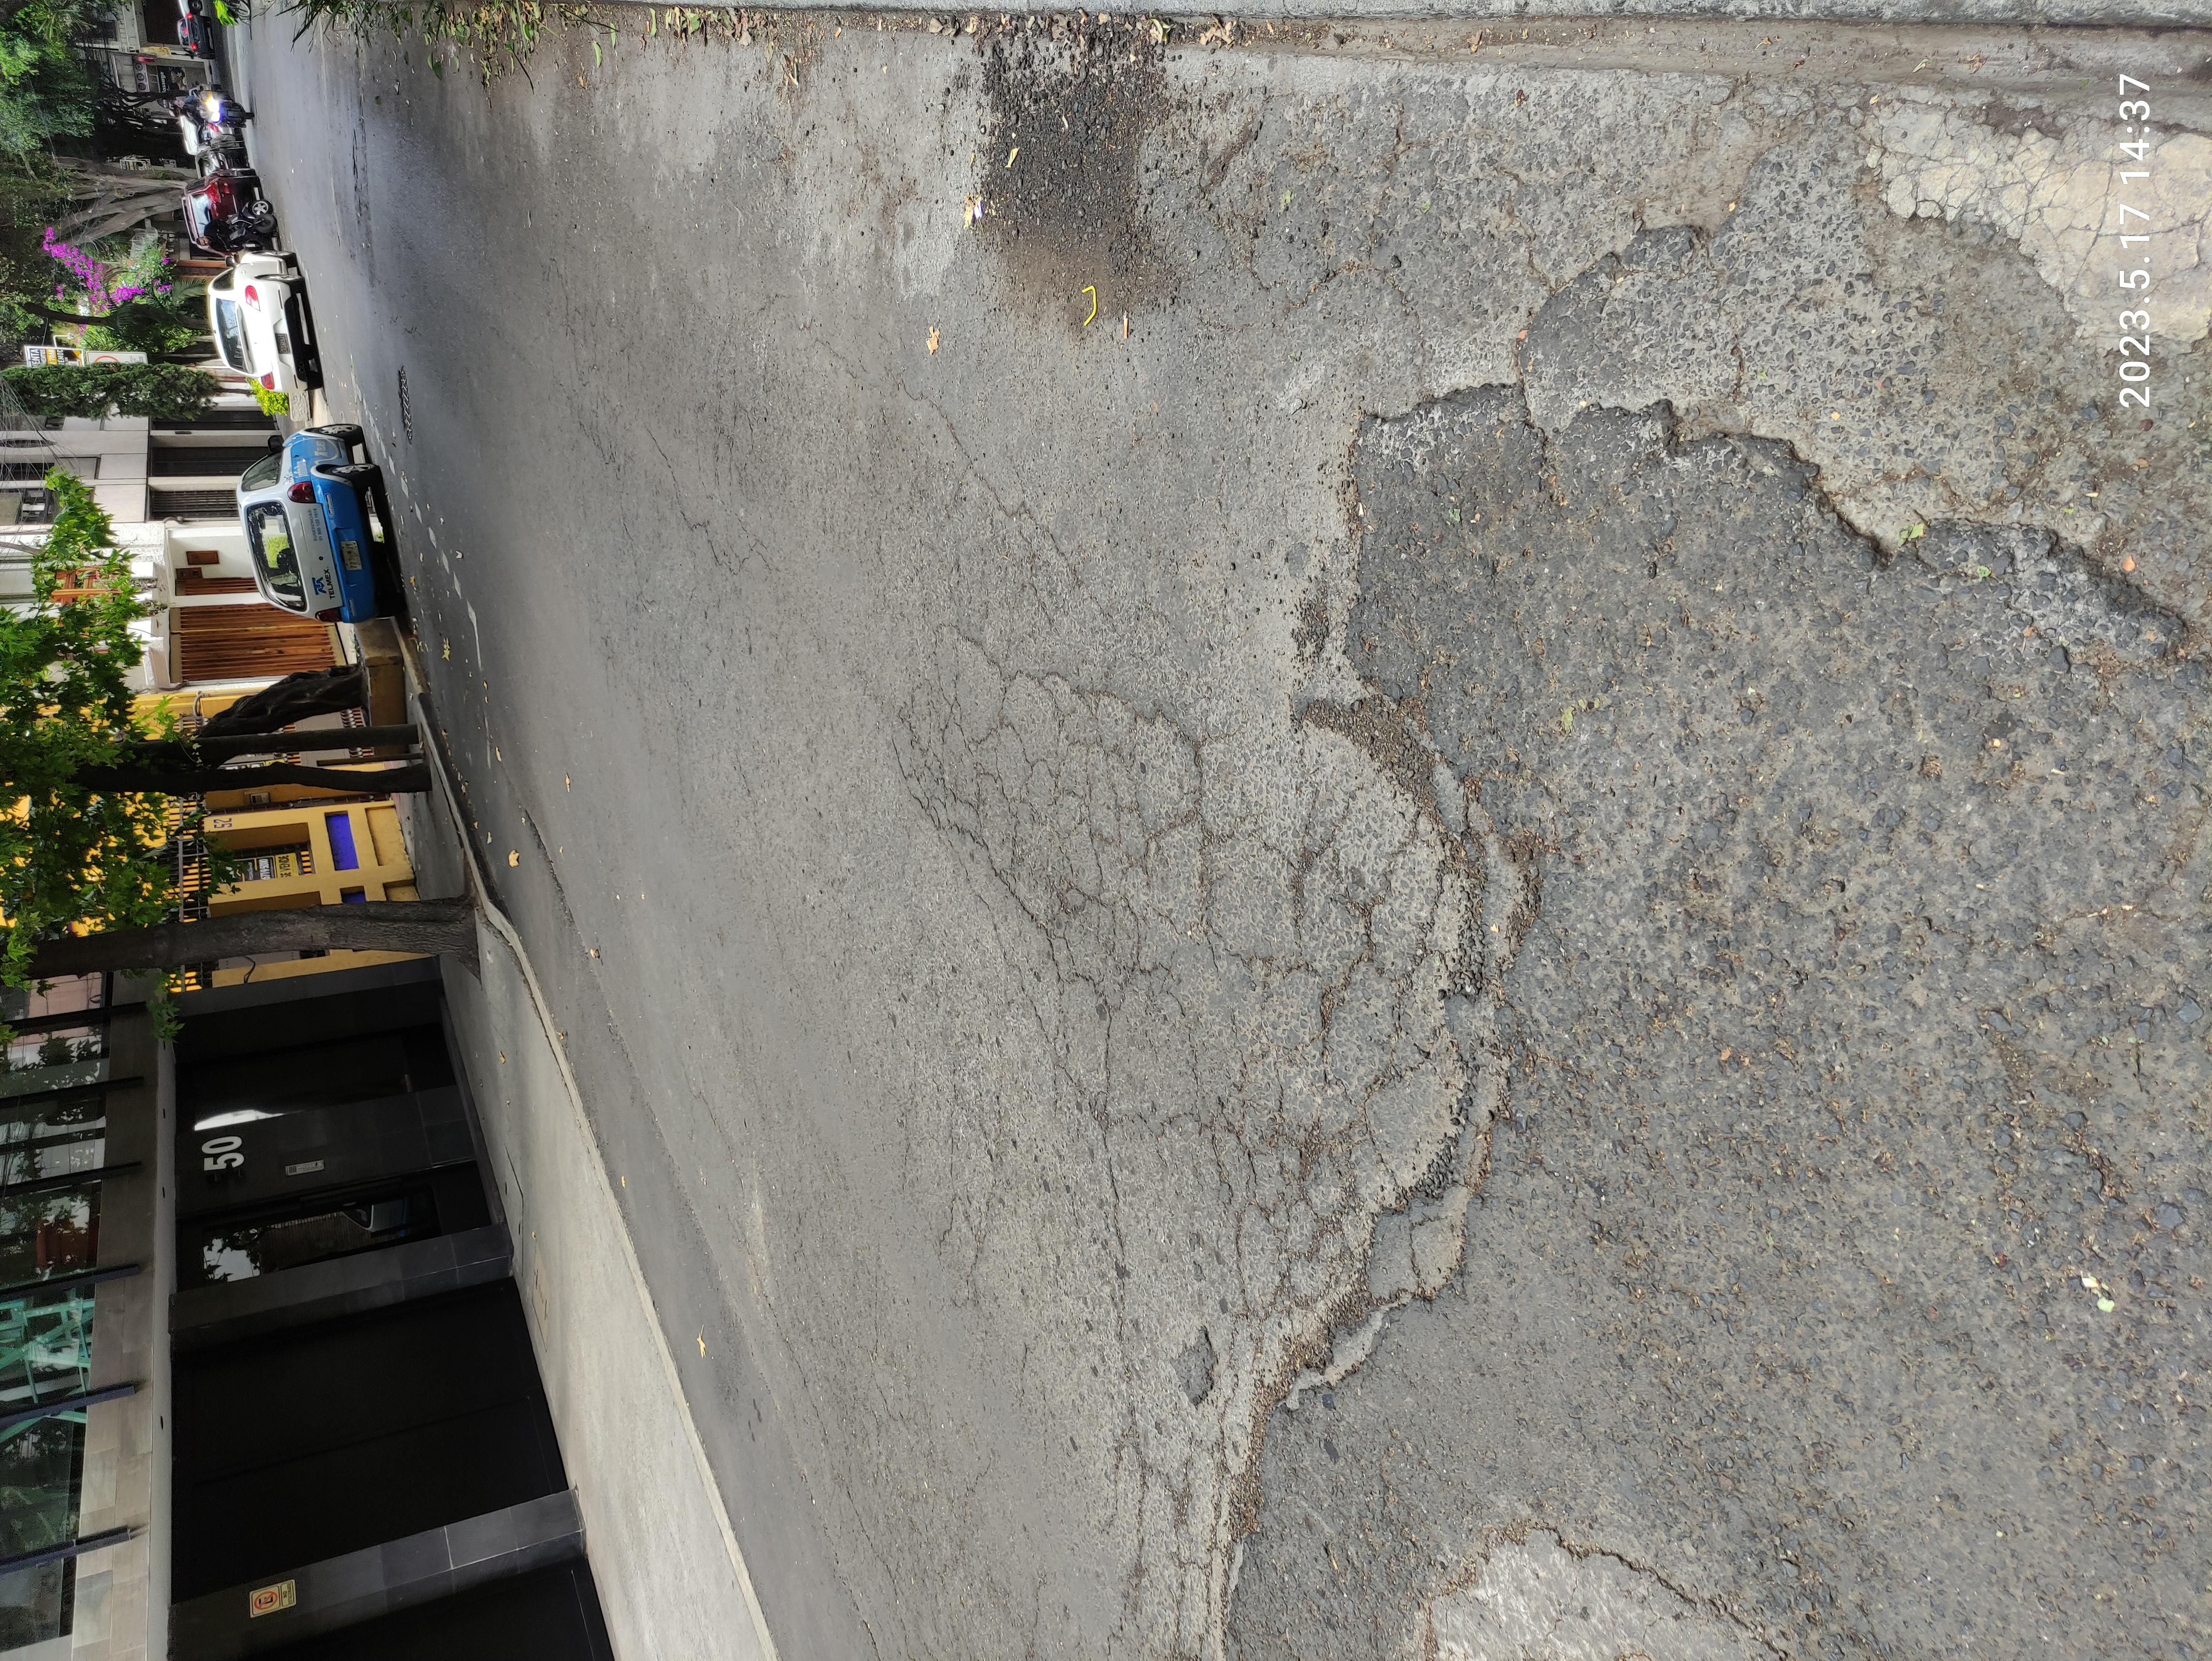alligator-crack: (455, 635, 1364, 1099)
